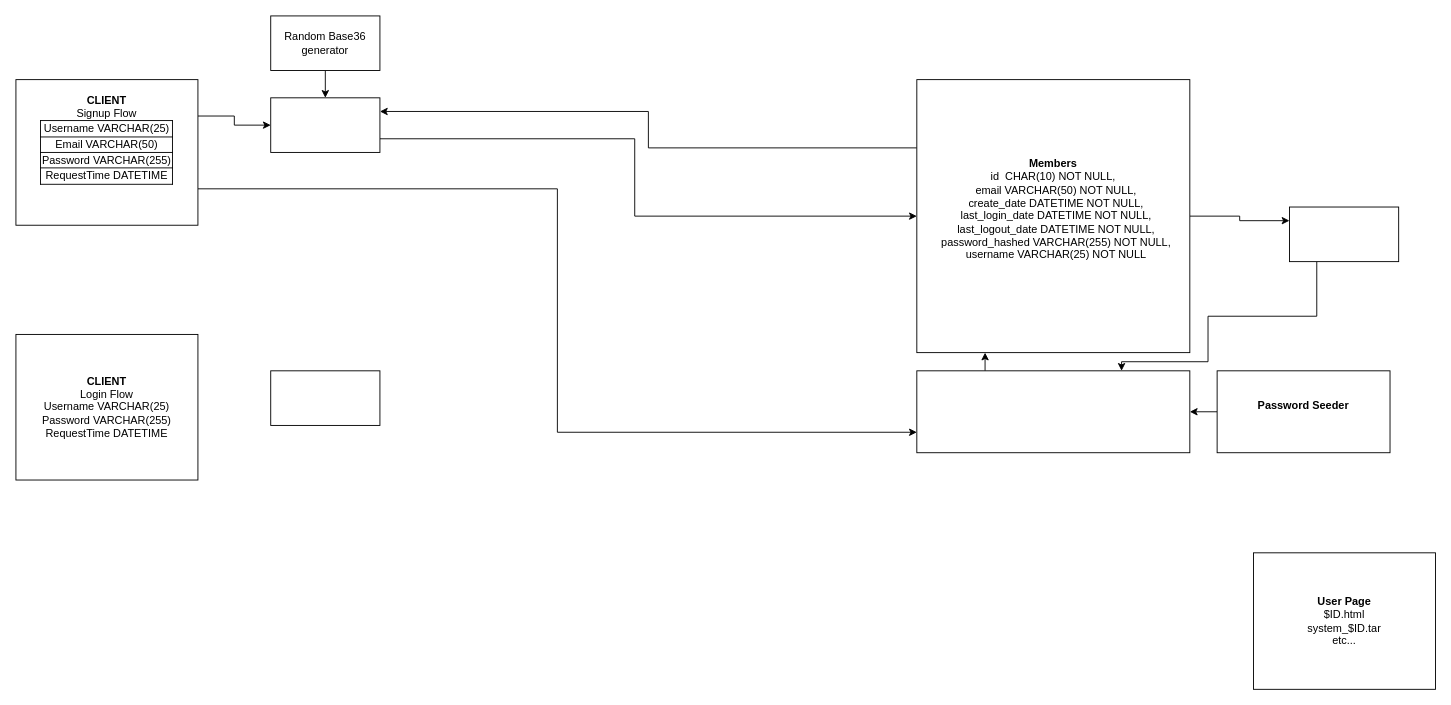
Some shapes in this 1451 by 705 pixel diagram are drawn without their labels. Here are the shapes that lost their labels. From the top down, the box of each, then its label:
(270, 97, 380, 152): Check Username Generate ID Record Create Date
(1289, 206, 1399, 262): Timer (? min)
(916, 370, 1190, 453): Password (re)Hasher
